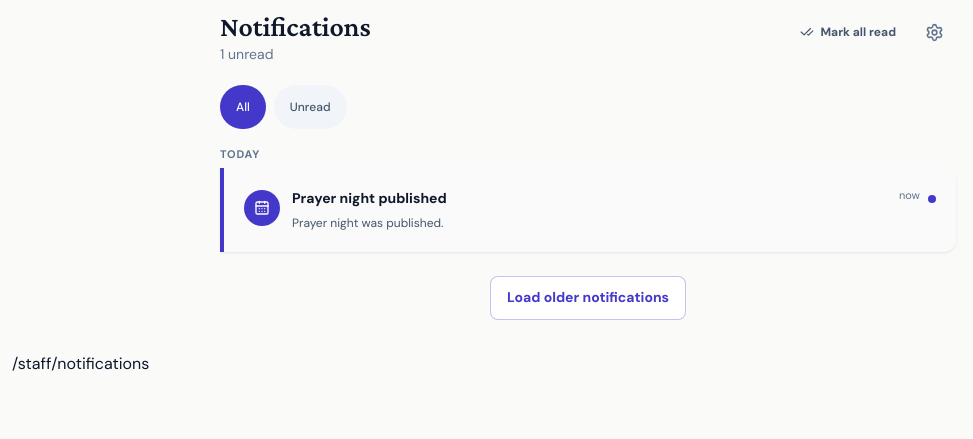
NotificationsInbox › groups by day, opens a notification as reading it, and offers older ones
The image size is (973, 439).
Expected: the text "1 unread" is shown, [220,45,273,63]
Expected: the element "Today" is shown, [220,149,956,252]
Click the button "Prayer night published now Prayer night was published.": (262, 208) [244,188,936,232]
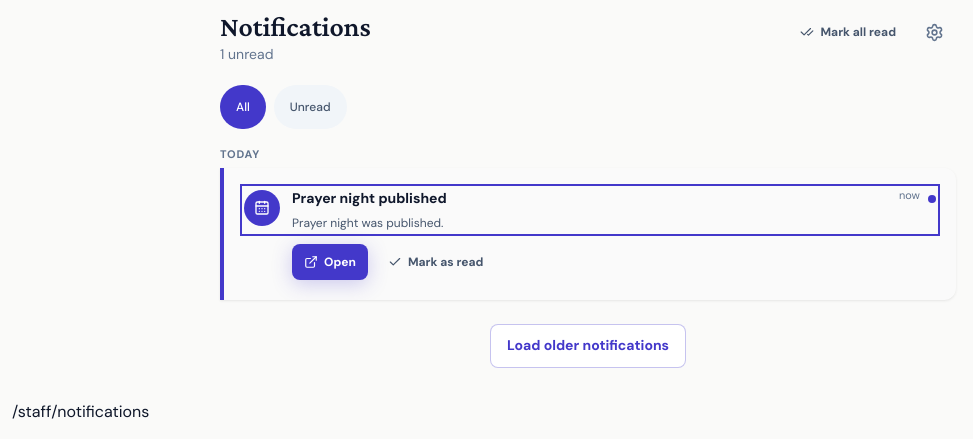
Click the button "Open": (330, 262) [292,244,368,280]
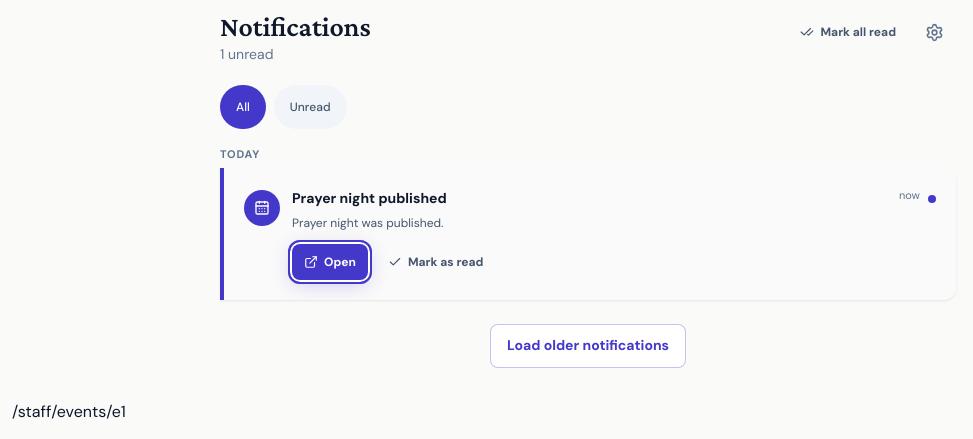
Expected: the text with test id "where" reads "/staff/events/e1", [12,401,126,422]
